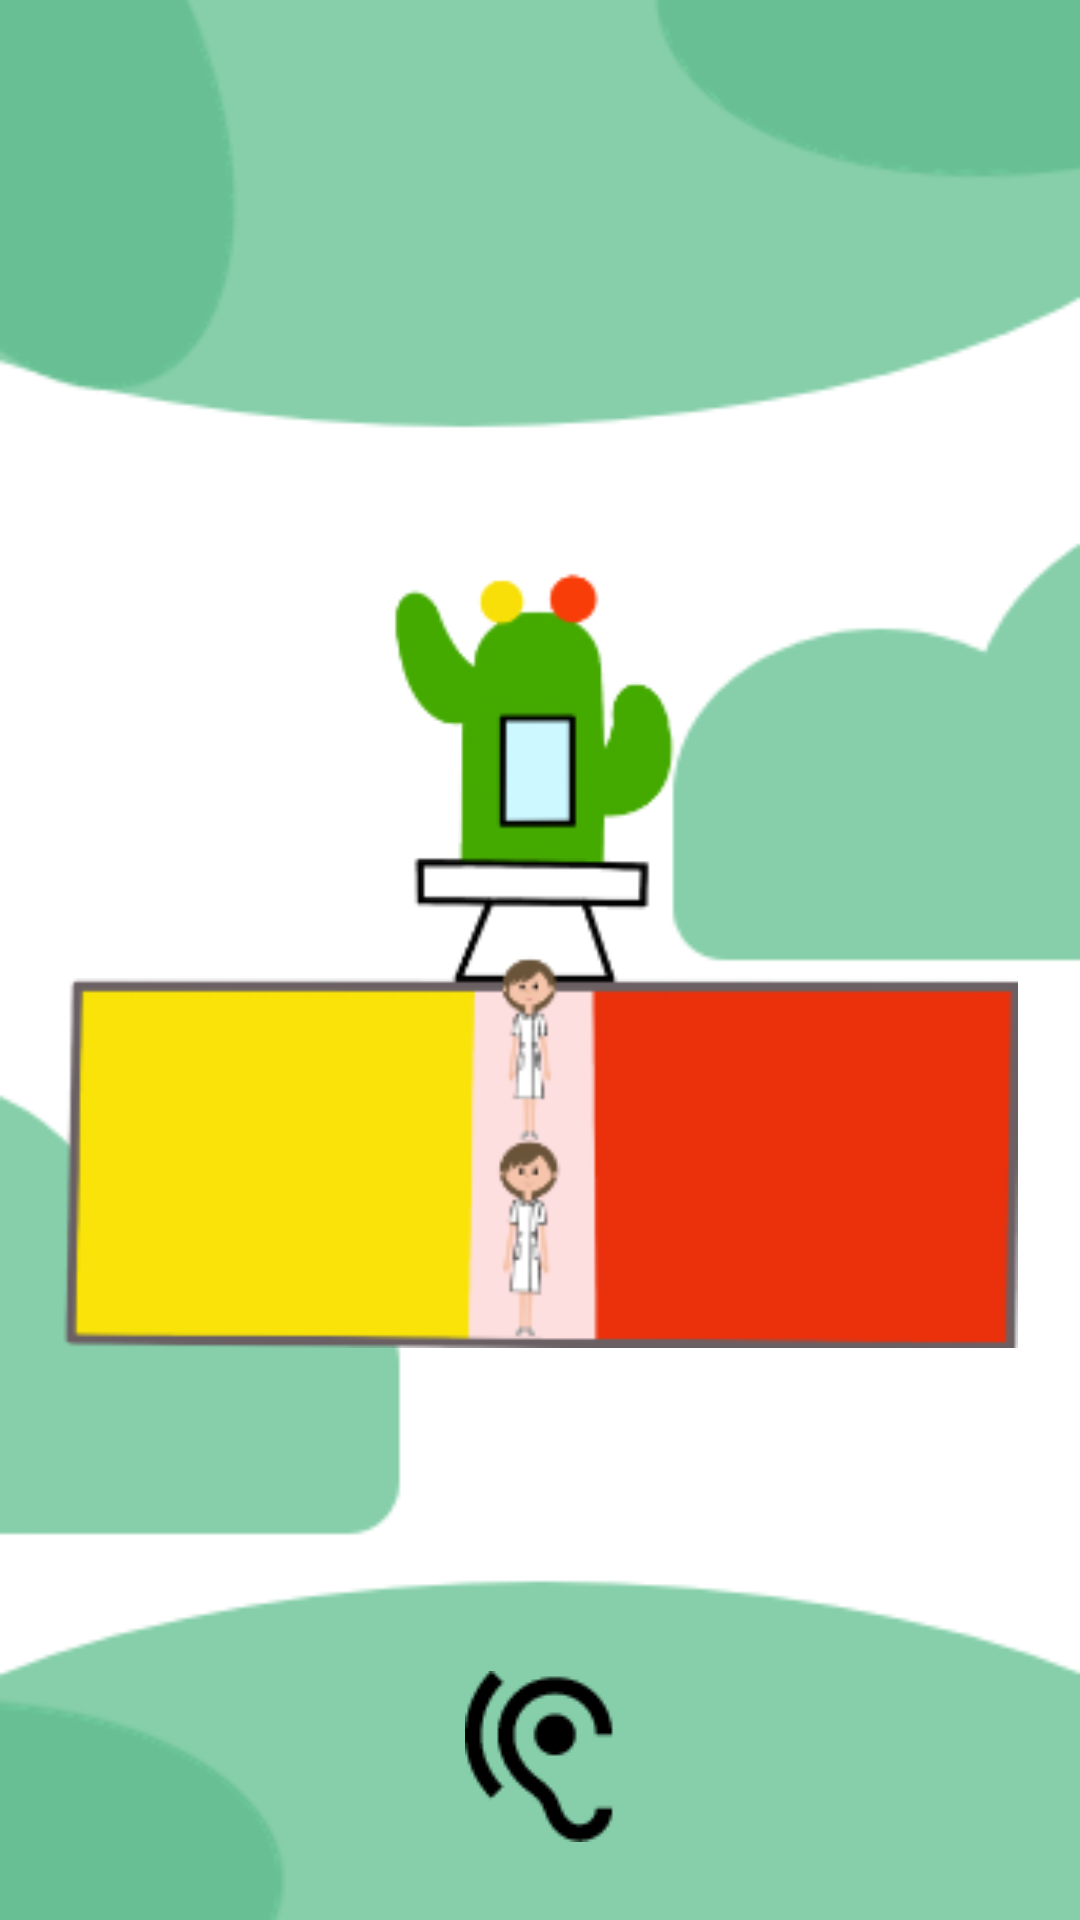

Named icons in this screenshot (1080x1920) and their centers, [x,y]:
pictogram oortje: [539,1756]
